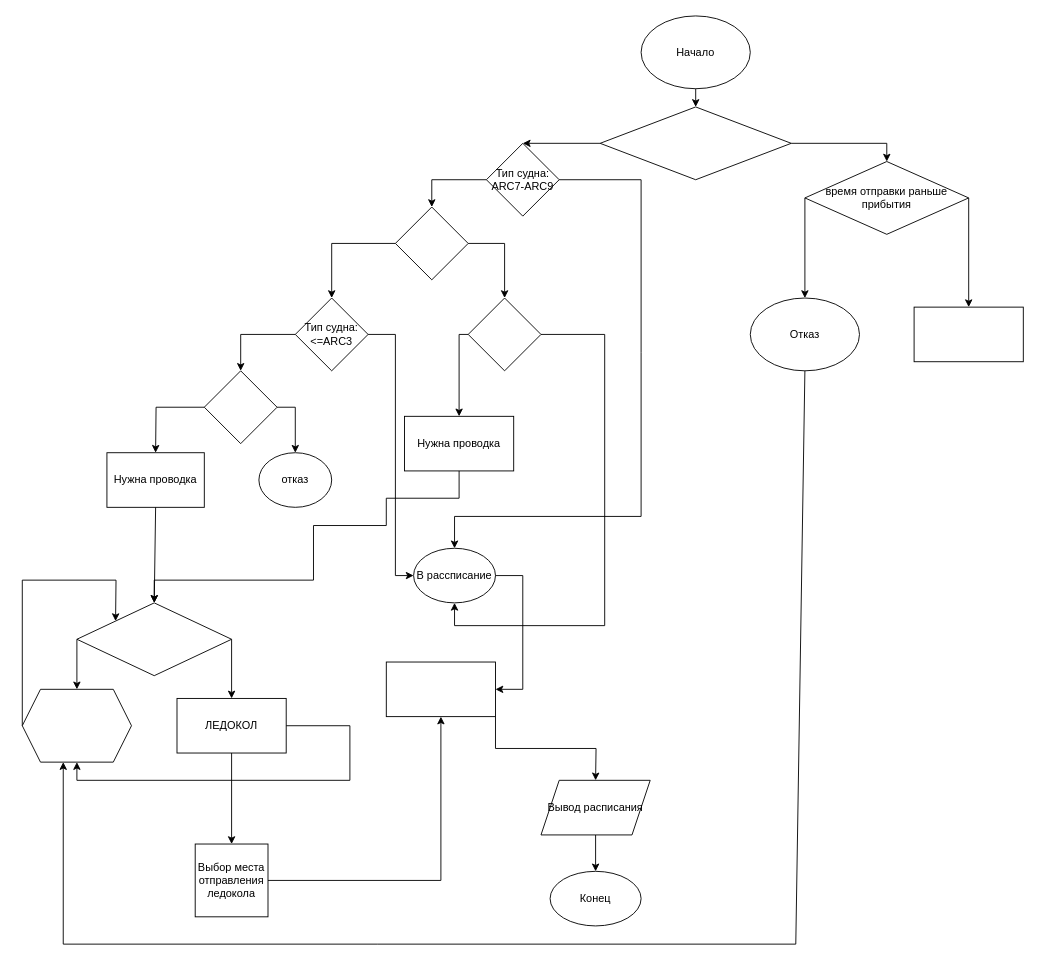
This 1039x967 diagram has some shape labels left out. Here are the shapes that lost their labels. From the top down, the centre of each, then its label:
point 695,143: Дата: ранее 20 числа
point 431,243: Тип судна: ARC4-ARC6
point 504,334: Сплоченность льда:<6
point 240,407: Сплоченность льда: >=7
point 154,639: проводка есть?
point 440,689: Доезжает до места по времени
point 76,725: Ждать другого времени
